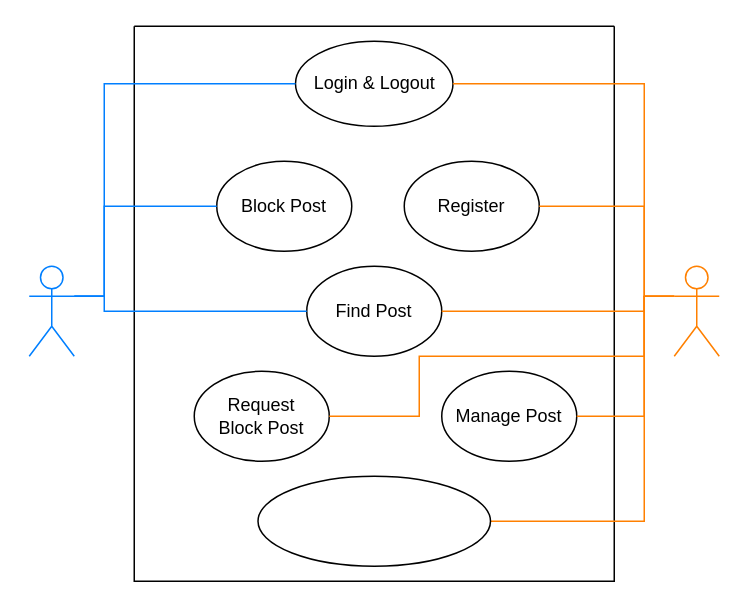
This 746x608 diagram has some shape labels left out. The centre of each missing label's shape, as x and y in pixels:
"Admin" belongs at point (51, 310).
"Like & Comment Post" belongs at point (373, 520).
"User" belongs at point (696, 310).
